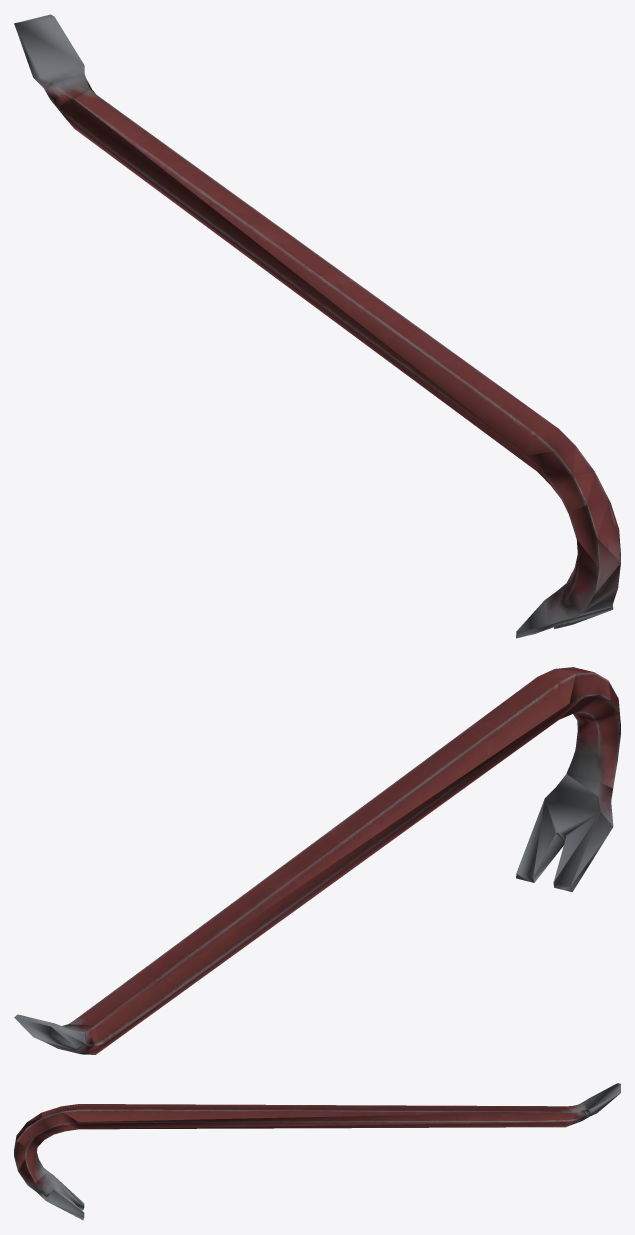
File: crow1_red.glb
3 renders of one model, top to bottom at view 1: azimuth 30°, elevation 25°; view 2: azimuth 150°, elevation 25°; view 3: azimuth 270°, elevation 25°, orthographic. The views are drawn at different scales.
Parts seen in each view (by area): view 1: body; view 2: body; view 3: body.
Boxes of the visible parts, left/top/right/bottom form: body: left=14, top=14, right=620, bottom=638; body: left=14, top=667, right=620, bottom=1054; body: left=14, top=1083, right=620, bottom=1220.
Size of the model in its own units: 0.0503 by 0.1731 by 0.76.
1 material, 1 textured.
